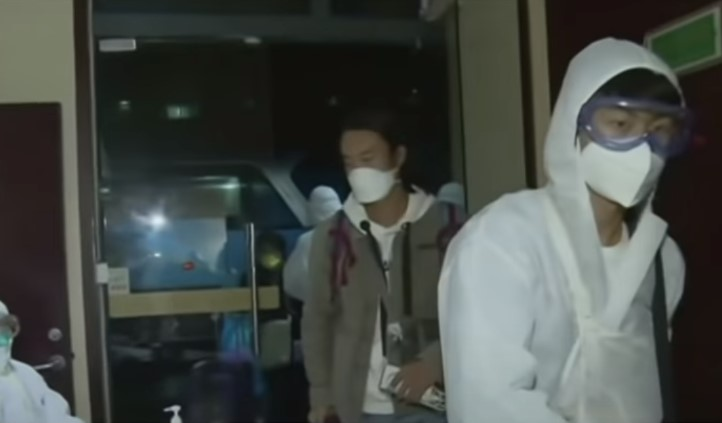face_with_mask: (546, 36, 679, 210), (338, 109, 402, 208)
